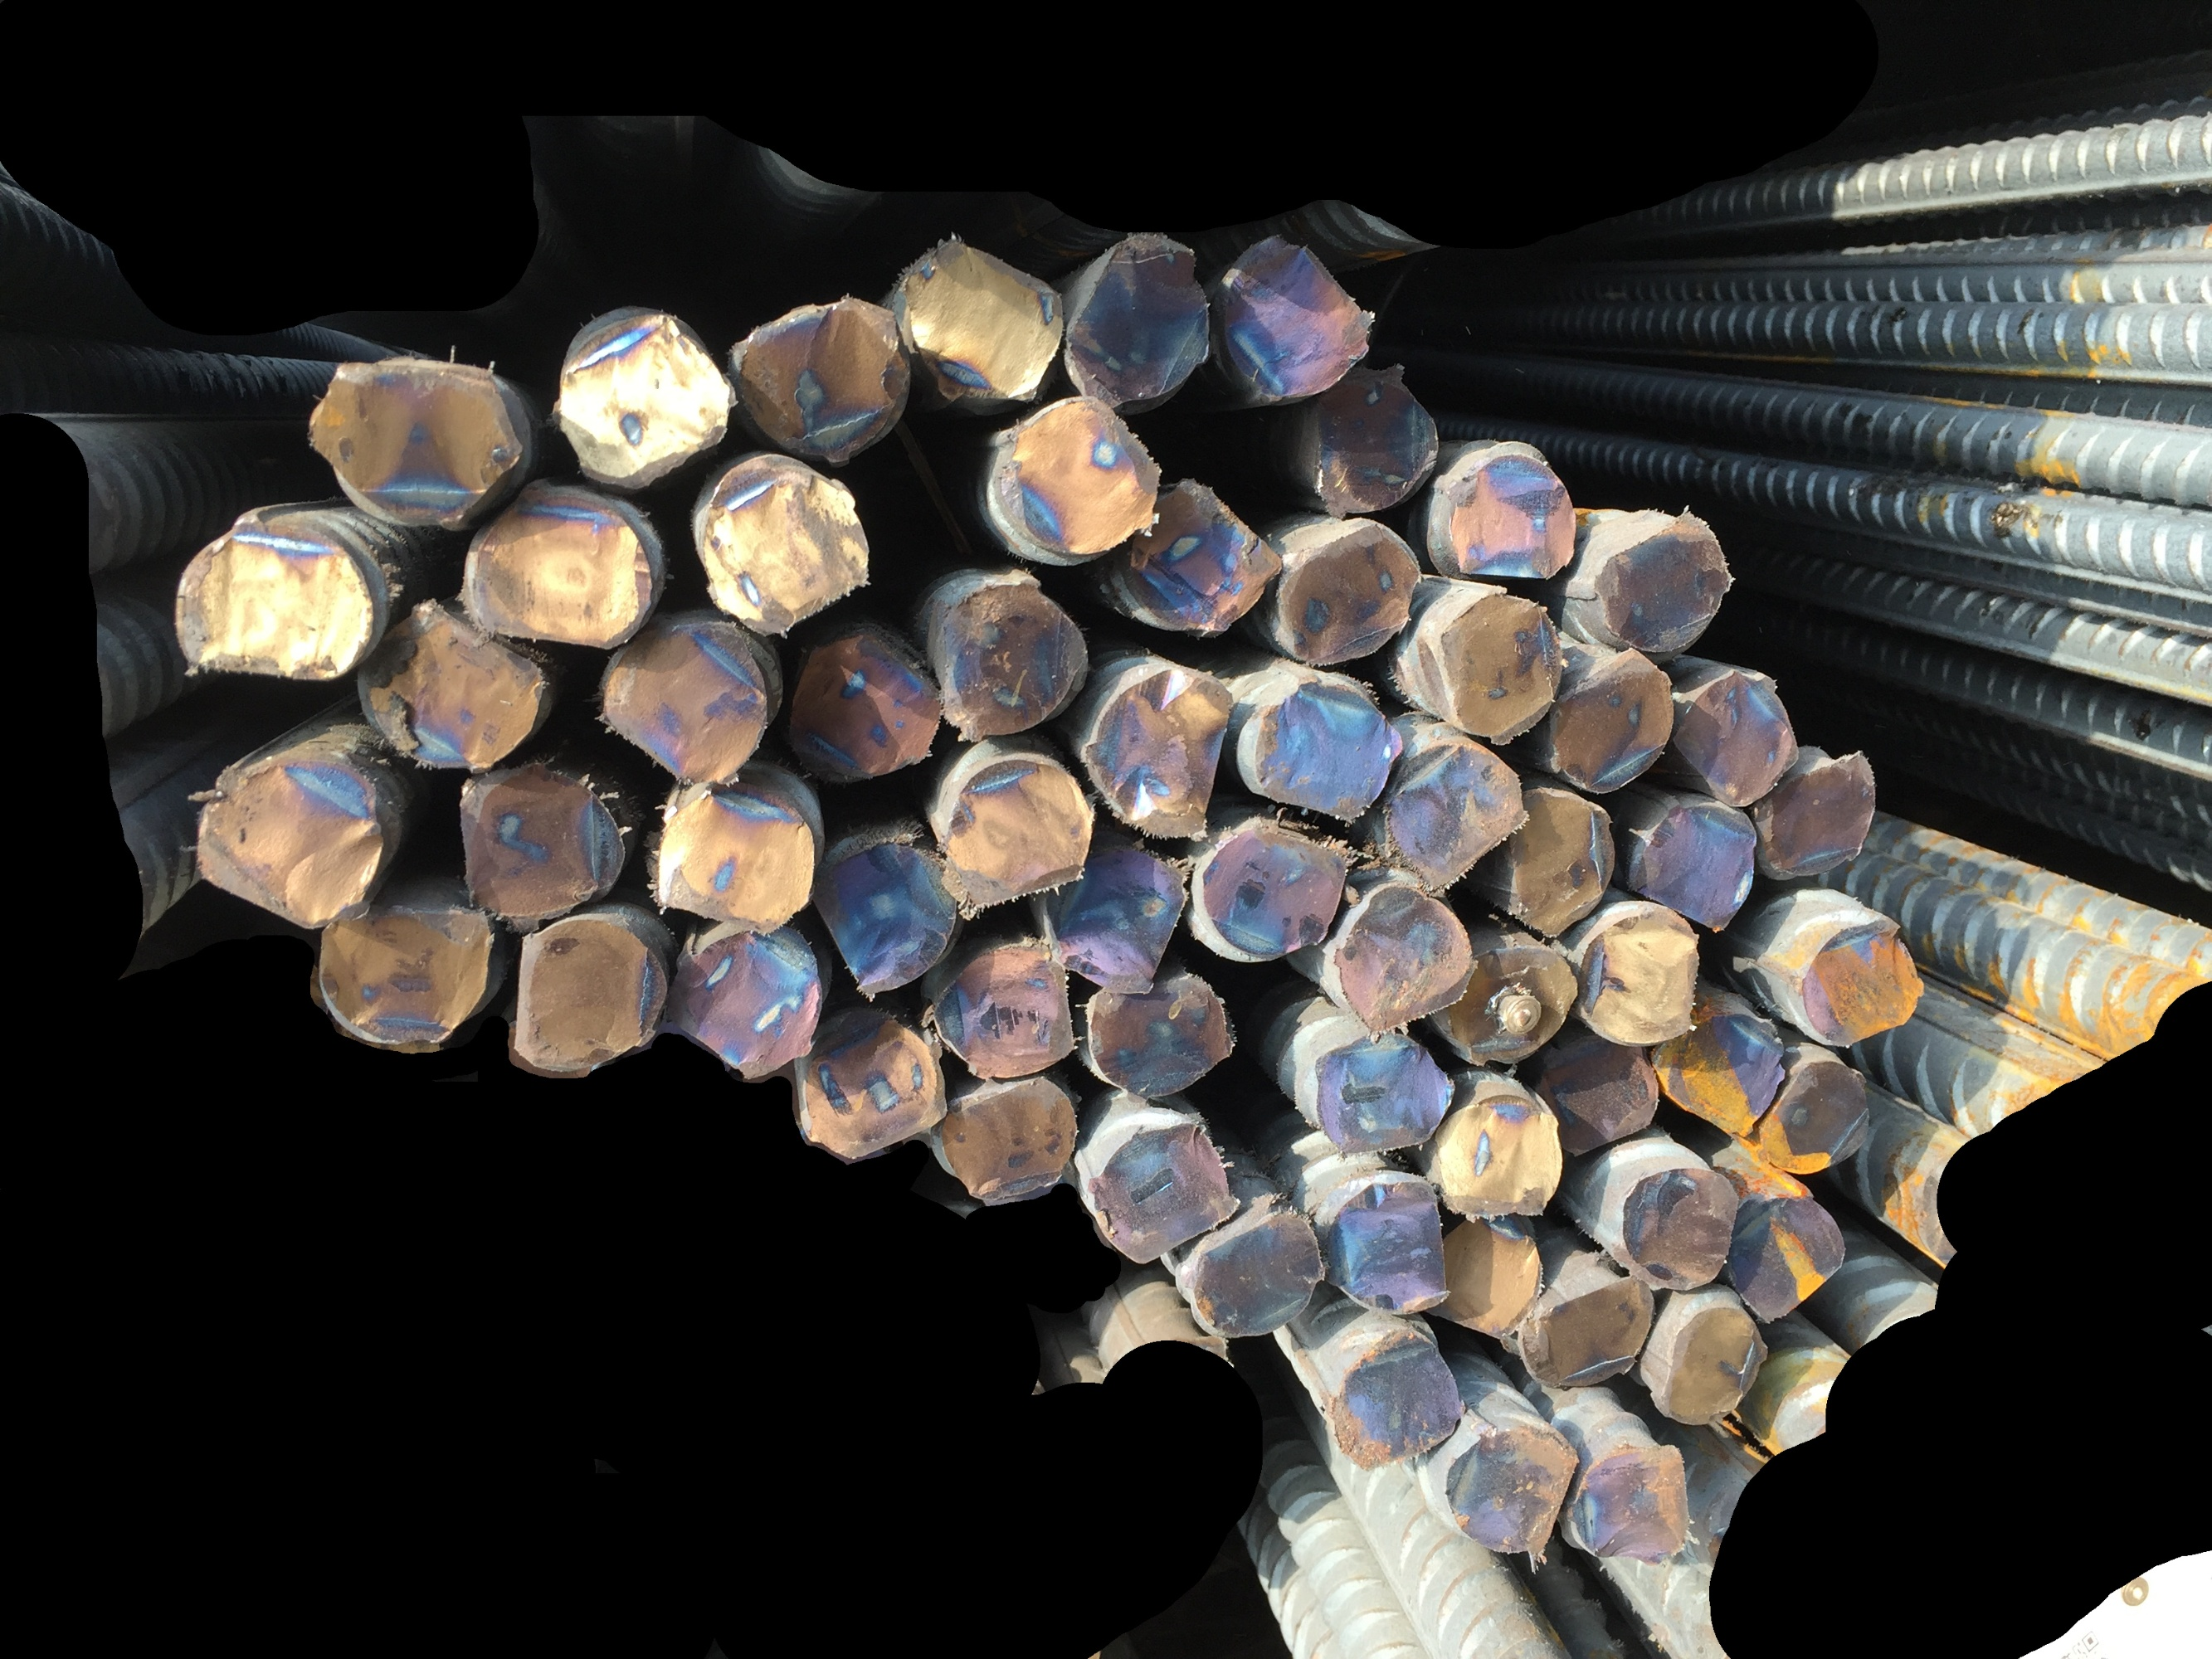rebar: (298, 352, 526, 528), (349, 591, 553, 781), (190, 749, 392, 934), (546, 308, 741, 491), (169, 516, 380, 683), (460, 484, 659, 657), (589, 612, 776, 791), (692, 462, 877, 640), (723, 295, 910, 467), (992, 389, 1170, 565), (448, 755, 629, 925), (1211, 232, 1382, 411), (634, 777, 824, 938), (892, 235, 1069, 408), (310, 903, 502, 1058), (1065, 223, 1215, 420), (1079, 662, 1241, 843), (650, 922, 830, 1084), (1119, 472, 1288, 643), (504, 913, 676, 1080), (926, 573, 1093, 741), (781, 629, 948, 793), (784, 1002, 955, 1162), (805, 833, 962, 1002), (940, 755, 1100, 915), (1034, 842, 1196, 999), (1370, 739, 1530, 896), (1082, 1114, 1245, 1267), (1271, 518, 1429, 673), (1325, 880, 1482, 1035), (1252, 674, 1408, 829), (926, 932, 1082, 1082), (1196, 821, 1354, 965), (1590, 507, 1740, 657), (1429, 587, 1571, 746), (1079, 965, 1241, 1103), (1539, 643, 1679, 800), (1323, 1323, 1468, 1473), (1440, 1420, 1584, 1570), (1304, 362, 1445, 516), (1421, 936, 1581, 1070), (1304, 1023, 1457, 1162), (1311, 1175, 1455, 1321), (1645, 1002, 1794, 1143), (1572, 903, 1713, 1051), (929, 1072, 1082, 1208), (1440, 446, 1581, 592), (1497, 781, 1623, 943), (1666, 664, 1802, 812), (1187, 1204, 1330, 1344), (1621, 798, 1764, 936), (1560, 1436, 1703, 1570), (1428, 1089, 1567, 1225), (1510, 1267, 1659, 1392), (1797, 913, 1931, 1053), (1724, 1187, 1851, 1328), (1616, 1161, 1745, 1297), (1757, 742, 1881, 884), (1529, 1033, 1663, 1161), (1426, 1213, 1550, 1349), (1754, 1054, 1876, 1183), (1654, 1302, 1774, 1429)
